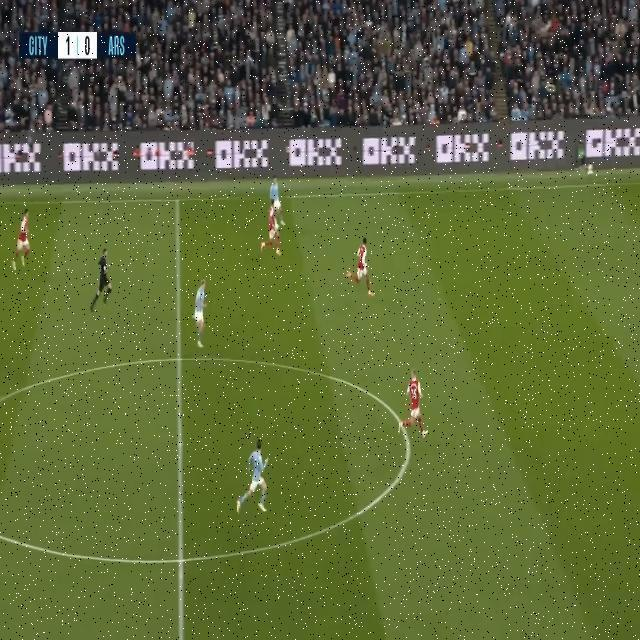player: (4, 179, 62, 287), (238, 419, 277, 531), (187, 270, 224, 366), (393, 365, 431, 458), (258, 192, 294, 266), (339, 245, 383, 303), (268, 165, 281, 211)
referee: (88, 237, 130, 318)
